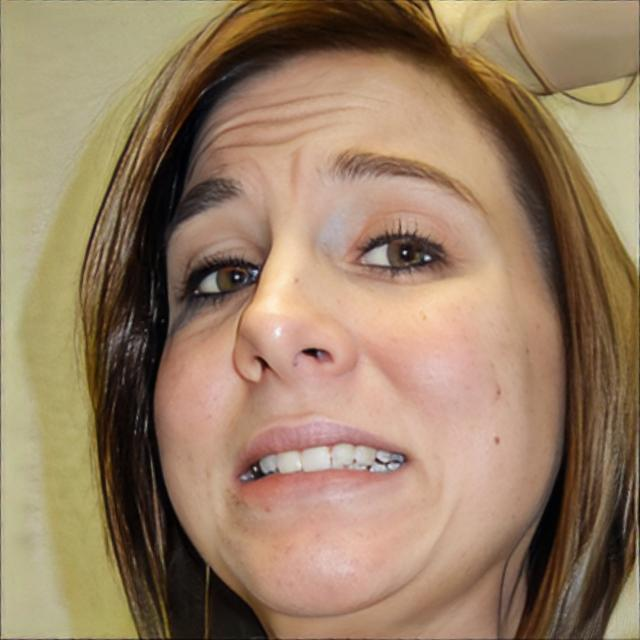fear: (150, 36, 570, 620)
